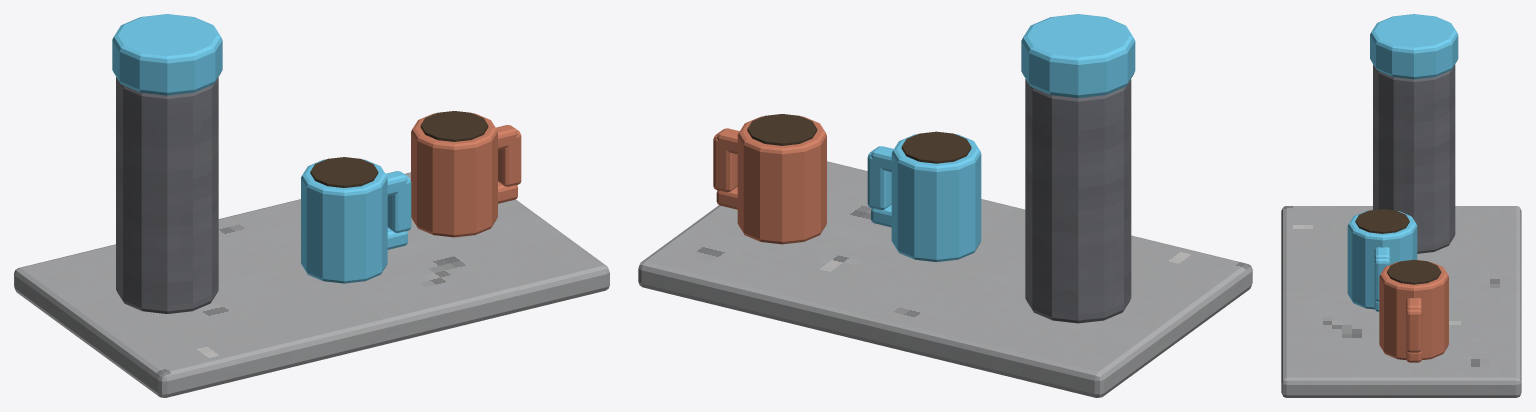
Rendered from lbd_med_break_tray.glb.
3 views of the same model, side by side, from view 1: azimuth 30°, elevation 25°; view 2: azimuth 150°, elevation 25°; view 3: azimuth 270°, elevation 25° (orthographic). The views are drawn at different scales.
Visible parts, largest first — view 1: med_break_tray__tray_003, med_break_tray__thermos_004, med_break_tray__mug body_006, med_break_tray__mug body_017, med_break_tray__thermos lid_005, med_break_tray__coffee_018, med_break_tray__coffee_007, med_break_tray__handle side_010, med_break_tray__handle side_021; view 2: med_break_tray__tray_003, med_break_tray__thermos_004, med_break_tray__mug body_006, med_break_tray__mug body_017, med_break_tray__thermos lid_005, med_break_tray__coffee_018, med_break_tray__coffee_007, med_break_tray__handle side_021, med_break_tray__handle side_010; view 3: med_break_tray__tray_003, med_break_tray__thermos_004, med_break_tray__thermos lid_005, med_break_tray__mug body_017, med_break_tray__mug body_006, med_break_tray__coffee_007, med_break_tray__coffee_018, med_break_tray__handle side_021, med_break_tray__handle side_010.
Part boxes in pixels (bbox=[...]): med_break_tray__tray_003: bbox=[14, 172, 609, 397]; med_break_tray__thermos_004: bbox=[116, 77, 218, 313]; med_break_tray__mug body_006: bbox=[301, 159, 387, 283]; med_break_tray__mug body_017: bbox=[411, 113, 497, 237]; med_break_tray__thermos lid_005: bbox=[112, 14, 222, 95]; med_break_tray__coffee_018: bbox=[420, 111, 488, 141]; med_break_tray__coffee_007: bbox=[310, 157, 378, 187]; med_break_tray__handle side_010: bbox=[387, 175, 411, 232]; med_break_tray__handle side_021: bbox=[498, 129, 521, 186]; med_break_tray__tray_003: bbox=[638, 161, 1252, 397]; med_break_tray__thermos_004: bbox=[1025, 79, 1131, 323]; med_break_tray__mug body_006: bbox=[891, 134, 981, 261]; med_break_tray__mug body_017: bbox=[737, 116, 826, 244]; med_break_tray__thermos lid_005: bbox=[1021, 14, 1135, 98]; med_break_tray__coffee_018: bbox=[747, 114, 817, 145]; med_break_tray__coffee_007: bbox=[901, 131, 971, 163]; med_break_tray__handle side_021: bbox=[713, 133, 737, 192]; med_break_tray__handle side_010: bbox=[867, 150, 891, 209]; med_break_tray__tray_003: bbox=[1281, 206, 1521, 397]; med_break_tray__thermos_004: bbox=[1373, 64, 1455, 253]; med_break_tray__thermos lid_005: bbox=[1370, 14, 1458, 79]; med_break_tray__mug body_017: bbox=[1379, 261, 1448, 360]; med_break_tray__mug body_006: bbox=[1347, 211, 1417, 309]; med_break_tray__coffee_007: bbox=[1355, 209, 1409, 233]; med_break_tray__coffee_018: bbox=[1387, 259, 1441, 284]; med_break_tray__handle side_021: bbox=[1406, 309, 1421, 352]; med_break_tray__handle side_010: bbox=[1374, 259, 1390, 301].
Size of the model in its own units: 0.66 by 0.3975 by 0.38.
Materials: 5 (2 with a texture image).
